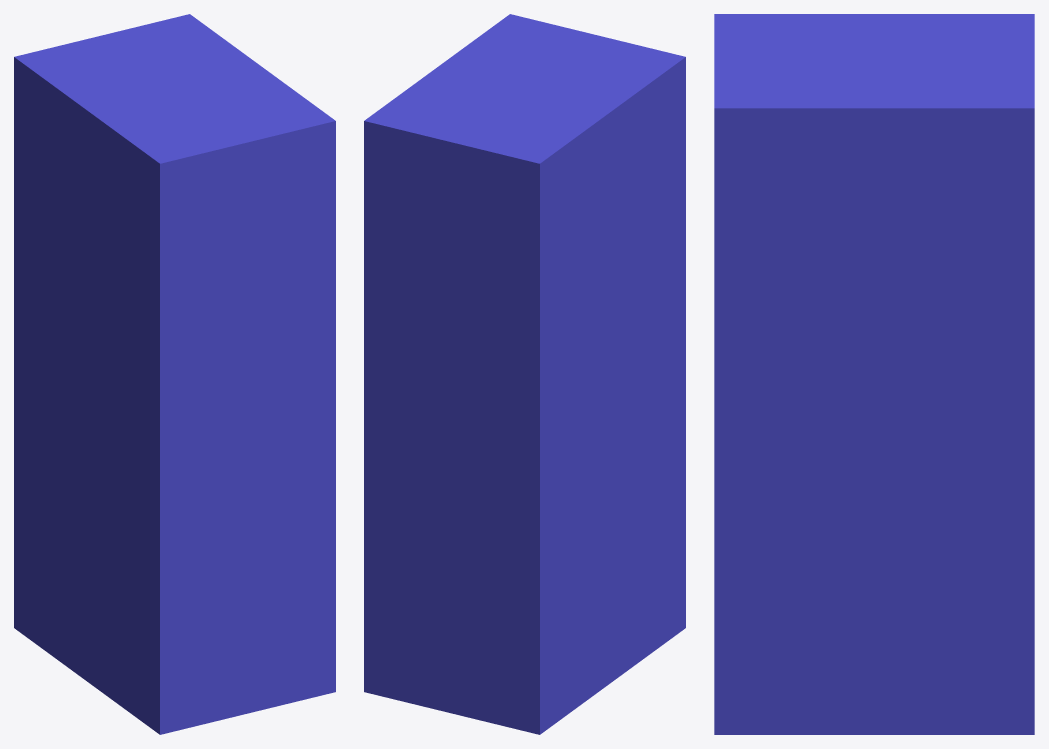
File: pier_piece_1_broken.DAE
3 renders of one model, left to right at view 1: azimuth 30°, elevation 25°; view 2: azimuth 150°, elevation 25°; view 3: azimuth 270°, elevation 25°, orthographic. The views are drawn at different scales.
Visible parts, largest first — view 1: bounds; view 2: bounds; view 3: bounds.
Part boxes in pixels (x1=…): bounds: x1=14, y1=14, x2=335, y2=734; bounds: x1=364, y1=14, x2=685, y2=734; bounds: x1=714, y1=14, x2=1034, y2=734.
Size of the model in its own units: 5.12 by 7.37 by 15.89.
